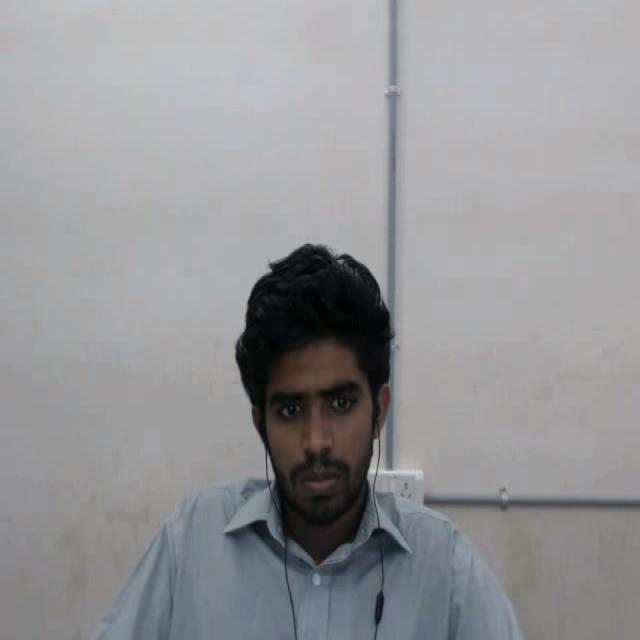Engaged: (199, 234, 457, 525)
